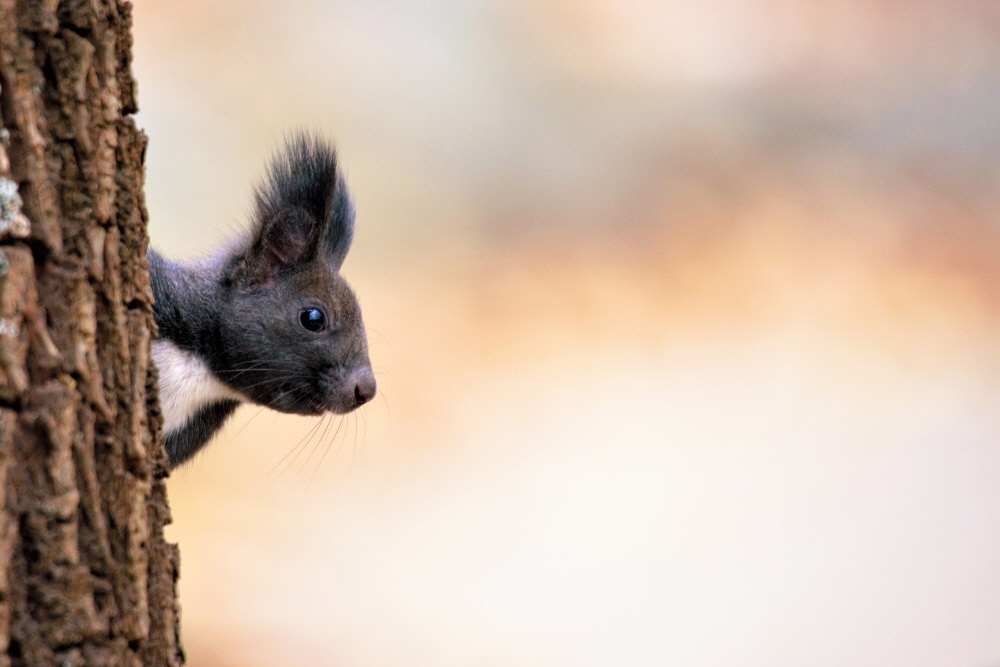chungseolmo: (146, 135, 379, 485)
